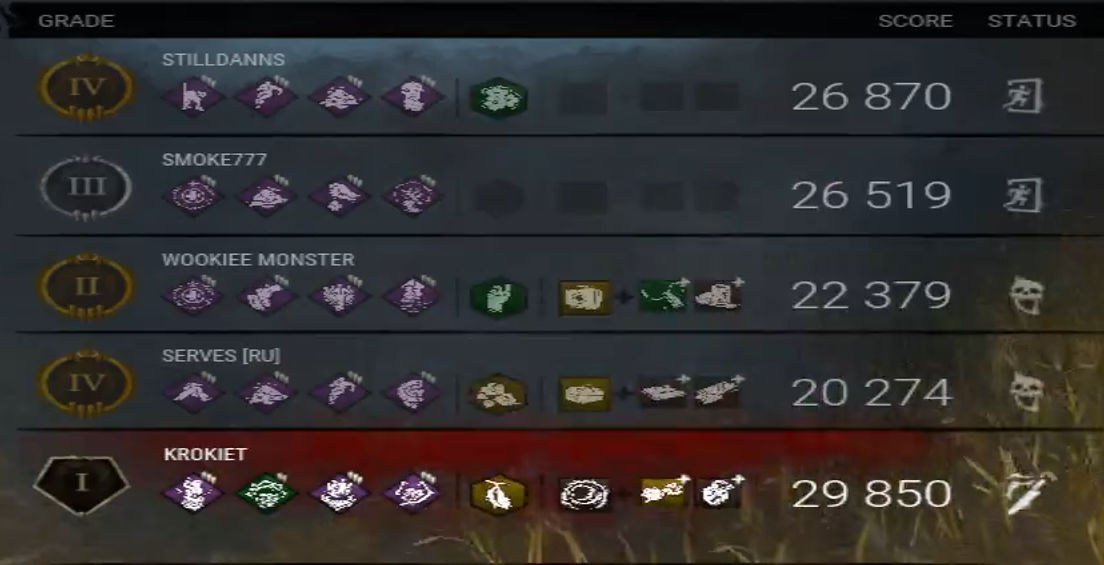bbq_and_chilli: (307, 473, 373, 514)
boon:shadowstep: (379, 175, 445, 216)
borrowed_time: (307, 174, 373, 215)
circle_of_healing: (158, 175, 224, 216), (160, 274, 226, 315)
corrupt_intervention: (233, 473, 299, 514)
dead_hard: (232, 76, 298, 117), (306, 371, 372, 412)
decisive_strike: (159, 371, 225, 412)
hex:ruin: (379, 473, 445, 514)
iron_will: (306, 76, 372, 117), (234, 175, 300, 216), (233, 371, 299, 412)
pop_goes_the_weasel: (158, 472, 224, 513)
prove_thyself: (306, 274, 372, 315)
resilience: (379, 76, 445, 117)
self_aware: (380, 275, 446, 316)
spine_chill: (160, 76, 226, 117)
sprint_burst: (234, 274, 300, 315)
unbreakable: (379, 371, 445, 412)
